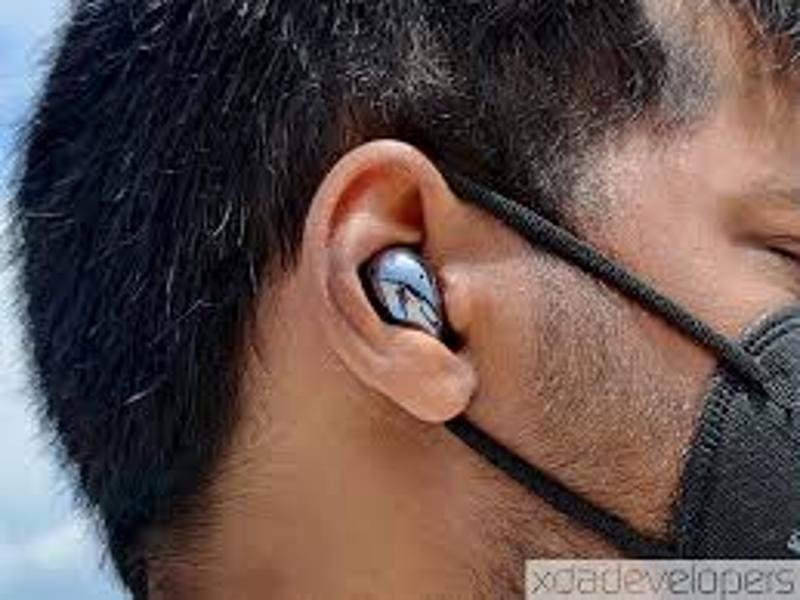headphone: (356, 242, 457, 349)
